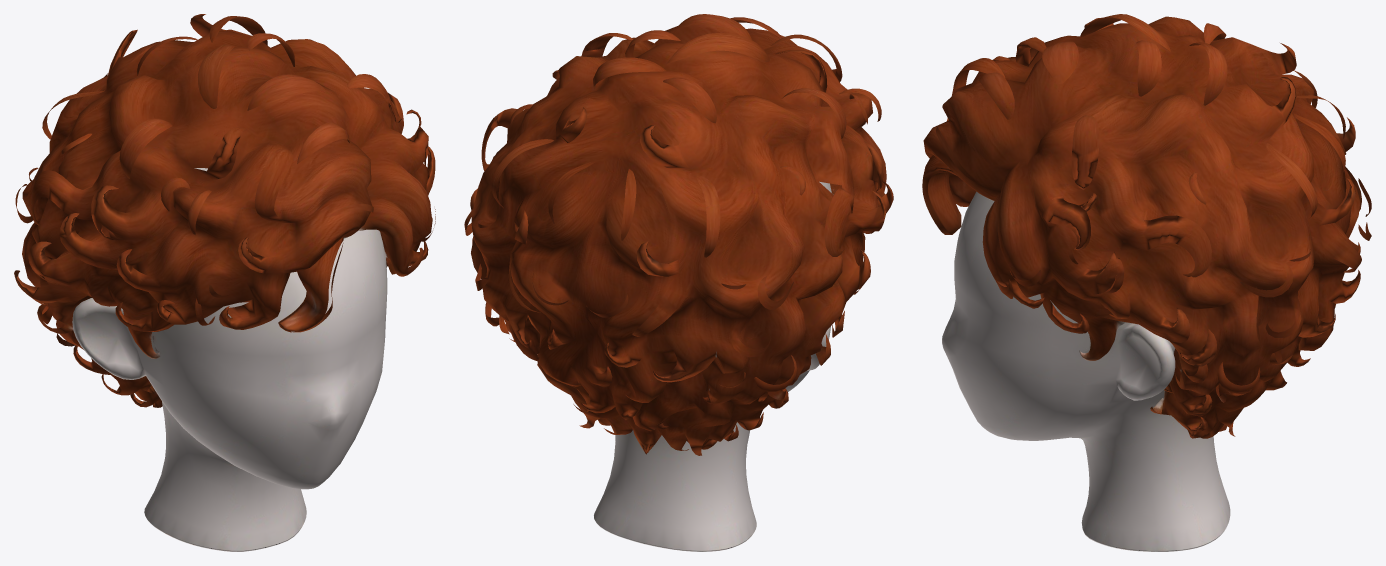
The model's file is hair_curly.glb.
3 views of the same model, side by side, from view 1: azimuth 30°, elevation 25°; view 2: azimuth 150°, elevation 25°; view 3: azimuth 270°, elevation 25° (orthographic). The views are drawn at different scales.
Visible parts, largest first — view 1: tripo_node_532a9b97-f152-4673-9eef-dfa1be49404b; view 2: tripo_node_532a9b97-f152-4673-9eef-dfa1be49404b; view 3: tripo_node_532a9b97-f152-4673-9eef-dfa1be49404b.
Part boxes in pixels (x1,y1,x2,y2): tripo_node_532a9b97-f152-4673-9eef-dfa1be49404b: [14, 14, 435, 551]; tripo_node_532a9b97-f152-4673-9eef-dfa1be49404b: [464, 14, 893, 551]; tripo_node_532a9b97-f152-4673-9eef-dfa1be49404b: [922, 14, 1371, 551].
Bounding box in the file's own units: 0.8315 × 0.9995 × 0.8228.
Materials: 1 (1 with a texture image).
